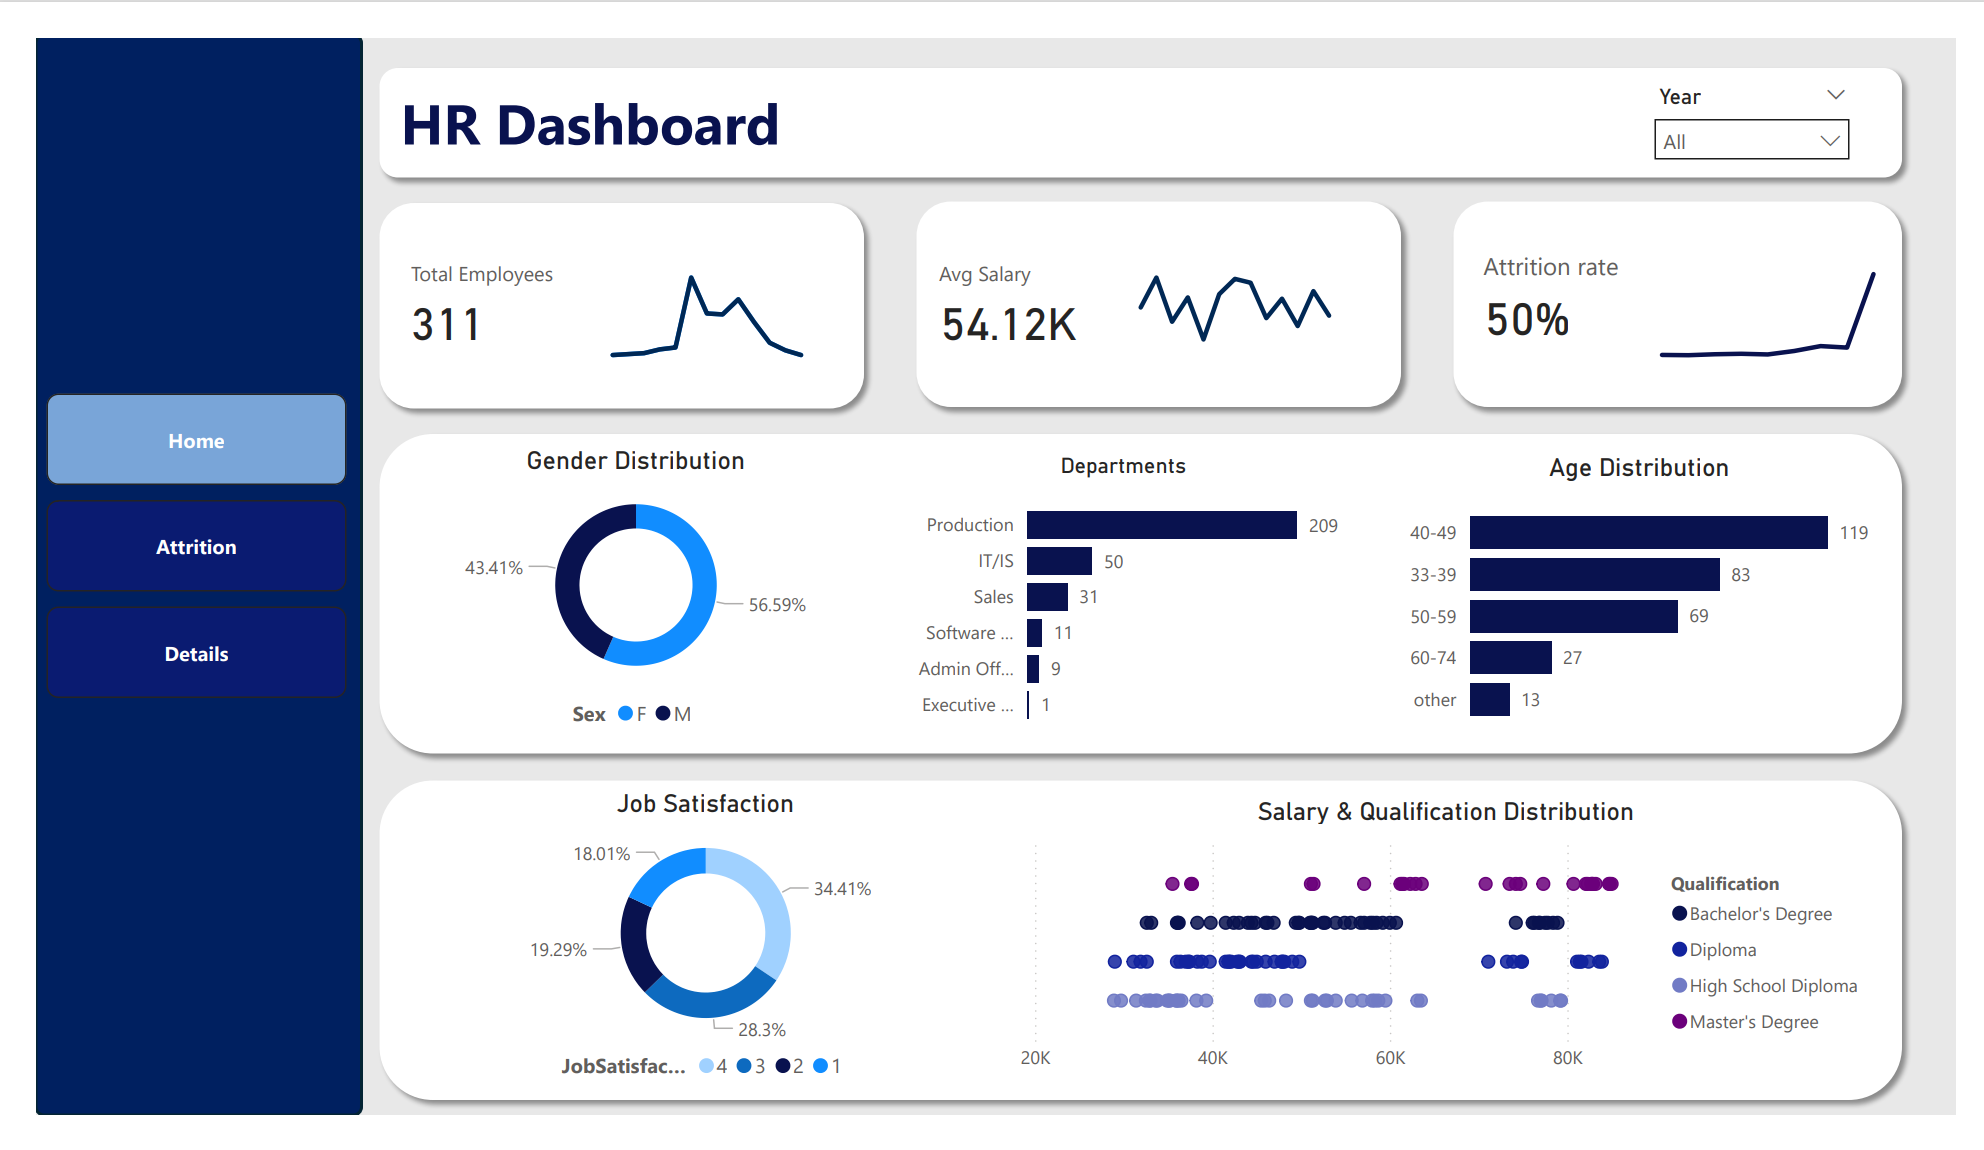

Layout of this report page (visuals, bound fields, positions):
{"tool":"powerbi","page":{"name":"Home","canvas":[1280,720],"ordinal":0},"visuals":[{"type":"group","id":"g1","title":"Group 1","box":[238.2,135.3,307.6,82.6],"z":0},{"type":"cardVisual","fields":{"Data":["Measures Table.Total Employees"]},"box":[238.2,135.3,120.9,82.6],"z":0,"group":"g1"},{"type":"lineChart","fields":{"Y":["Measures Table.Total Employees"],"Category":["Date Table.Year"]},"box":[359.1,135.3,186.7,82.6],"z":1000,"group":"g1"},{"type":"cardVisual","fields":{"Data":["Measures Table.Avg Salary"]},"box":[590.1,135.3,120.9,82.6],"z":1000},{"type":"lineChart","fields":{"Y":["Measures Table.Total Employees"],"Category":["Date Table.Year"]},"box":[359.1,135.3,186.7,82.6],"z":2000},{"type":"lineChart","fields":{"Y":["Measures Table.Attrition rate"],"Category":["Date Table.Year"]},"box":[1068.9,135.3,171.2,82.6],"z":3000},{"type":"lineChart","fields":{"Y":["Measures Table.Avg Salary"],"Category":["Date Table.Year"]},"box":[711,135.3,186.7,82.6],"z":4000},{"type":"cardVisual","fields":{"Data":["Measures Table.Attrition rate"]},"box":[952.5,126.2,137.5,91.2],"z":5000},{"type":"donutChart","title":"Gender Distribution","fields":{"Y":["Measures Table.Total Employees"],"Category":["HRDataset.Sex"]},"box":[251.2,271.2,297.5,197.5],"z":6000},{"type":"clusteredBarChart","title":"Departments","fields":{"Category":["HRDataset.Department"],"Y":["Measures Table.Total Employees"]},"box":[571,276.5,307.6,192.7],"z":8000},{"type":"clusteredBarChart","title":"Age Distribution","fields":{"Y":["Measures Table.Total Employees"],"Category":["HRDataset.Employee age band"]},"box":[907.5,276.2,322.5,192.5],"z":9000},{"type":"slicer","fields":{"Values":["Date Table.Year"]},"box":[1068.8,26.2,150,60],"z":10000},{"type":"textbox","box":[238.3,26.6,270.2,59.6],"z":11000},{"type":"pageNavigator","box":[7.2,237,199.9,204.7],"z":12000},{"type":"scatterChart","title":"Salary VS Qualification of Staff","fields":{"X":["HRDataset.Salary"],"Y":["HRDataset.Education Category"],"Series":["HRDataset.Education Qualification"]},"box":[251.4,505.1,978,192.7],"z":13000}]}

Visuals, with their boxes in screenshot pixels (x1, y1, x2, y2), scaled from the page's 1280x720 canvas onto the 1984x1150 screenshot:
"Group 1" group: x1=369, y1=216, x2=846, y2=348
cardVisual - Measures Table.Total Employees: x1=369, y1=216, x2=557, y2=348
lineChart - Measures Table.Total Employees x Date Table.Year: x1=557, y1=216, x2=846, y2=348
cardVisual - Measures Table.Avg Salary: x1=915, y1=216, x2=1102, y2=348
lineChart - Measures Table.Total Employees x Date Table.Year: x1=557, y1=216, x2=846, y2=348
lineChart - Measures Table.Attrition rate x Date Table.Year: x1=1657, y1=216, x2=1922, y2=348
lineChart - Measures Table.Avg Salary x Date Table.Year: x1=1102, y1=216, x2=1391, y2=348
cardVisual - Measures Table.Attrition rate: x1=1476, y1=202, x2=1690, y2=347
"Gender Distribution" donutChart: x1=389, y1=433, x2=850, y2=749
"Departments" clusteredBarChart: x1=885, y1=442, x2=1362, y2=749
"Age Distribution" clusteredBarChart: x1=1407, y1=441, x2=1906, y2=749
slicer - Date Table.Year: x1=1657, y1=42, x2=1889, y2=138
textbox: x1=369, y1=42, x2=788, y2=138
pageNavigator: x1=11, y1=379, x2=321, y2=705
"Salary VS Qualification of Staff" scatterChart: x1=390, y1=807, x2=1906, y2=1115
